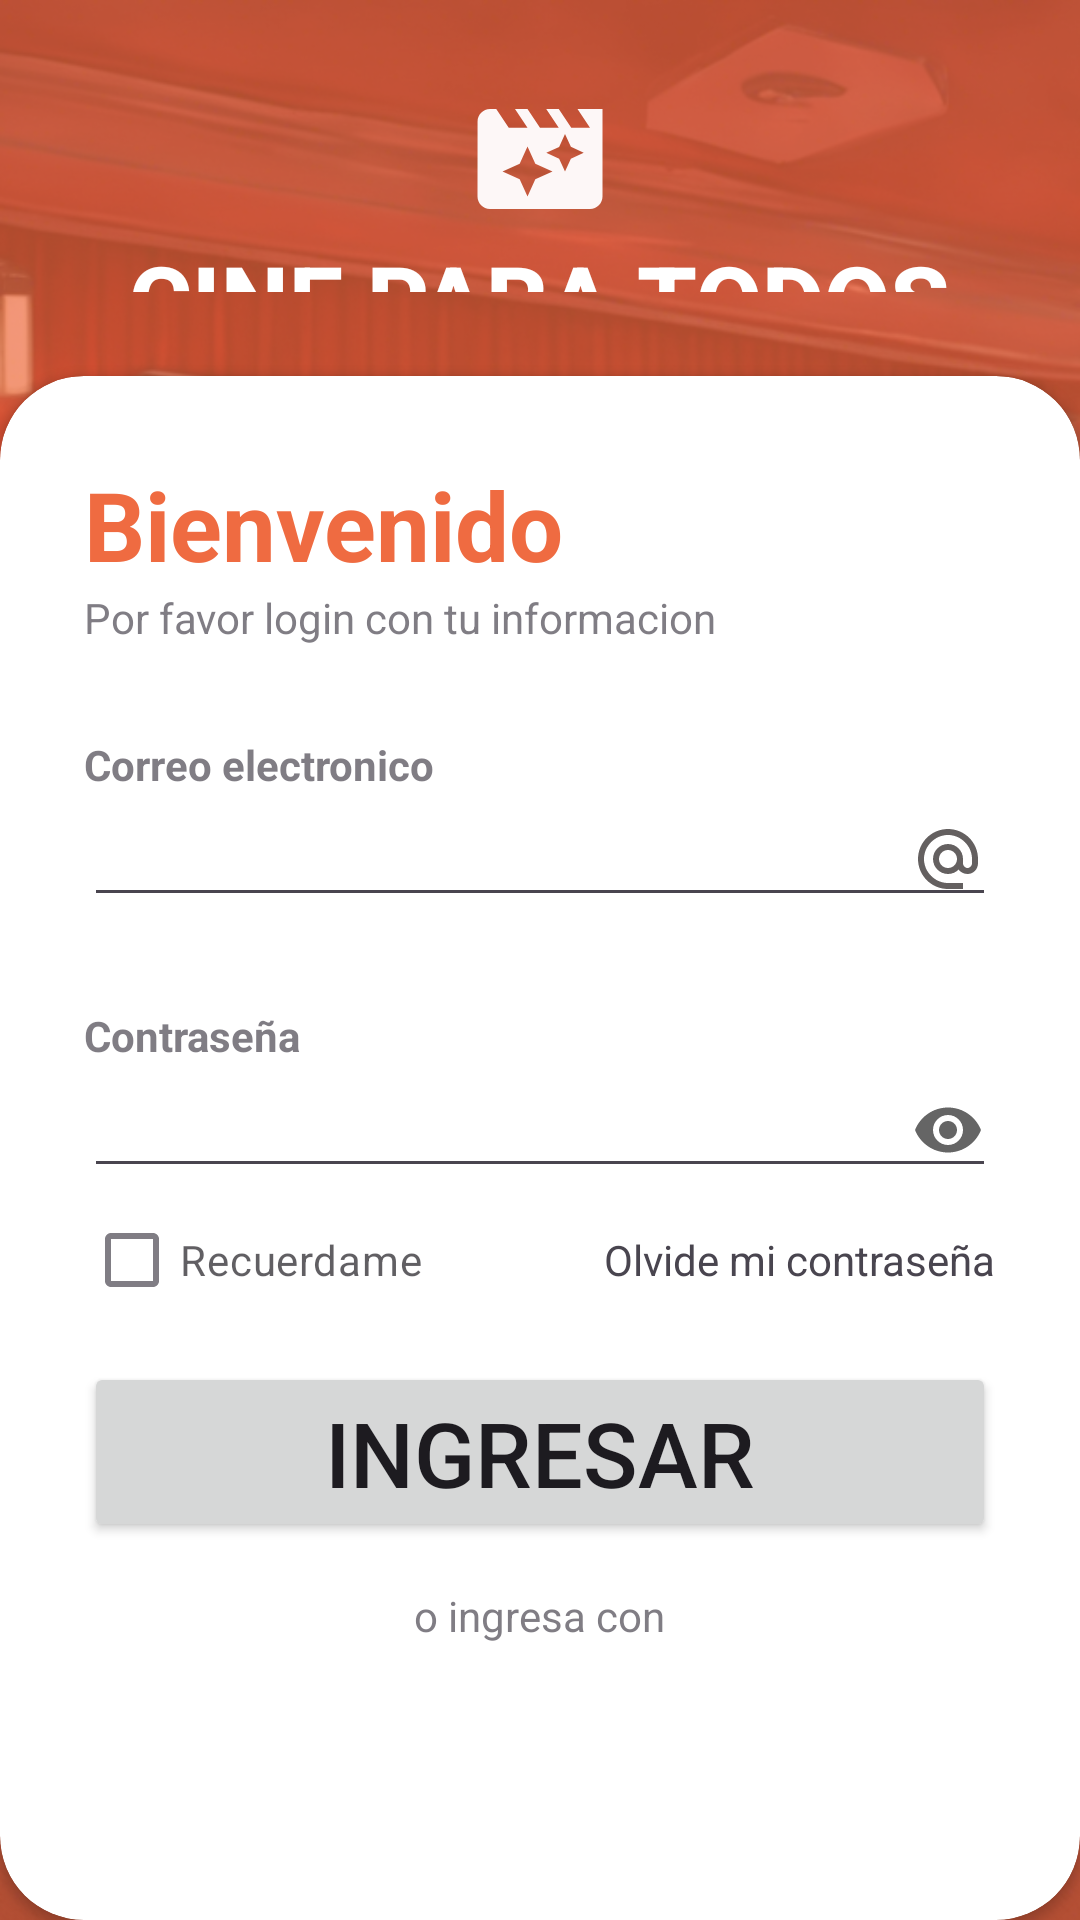

Icon bounding boxes for this 1080px x 1920px phone screenshot, format (x1=x1, y1=y1, x2=x2, y2=y2):
film: (x1=477, y1=109, x2=603, y2=209)
